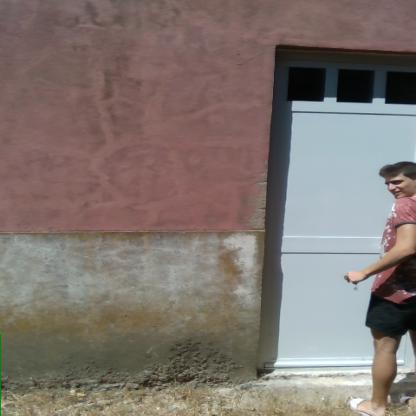door: (260, 57, 415, 367)
